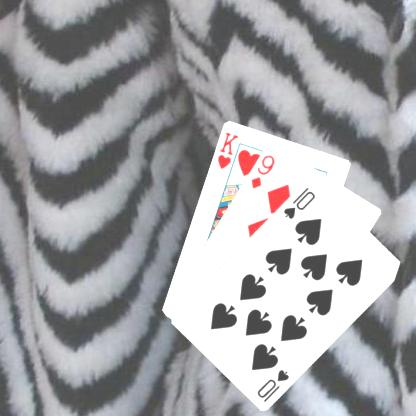10S: (254, 366, 291, 403), (280, 184, 317, 220)
9D: (248, 152, 276, 190)
KH: (214, 129, 240, 170)
